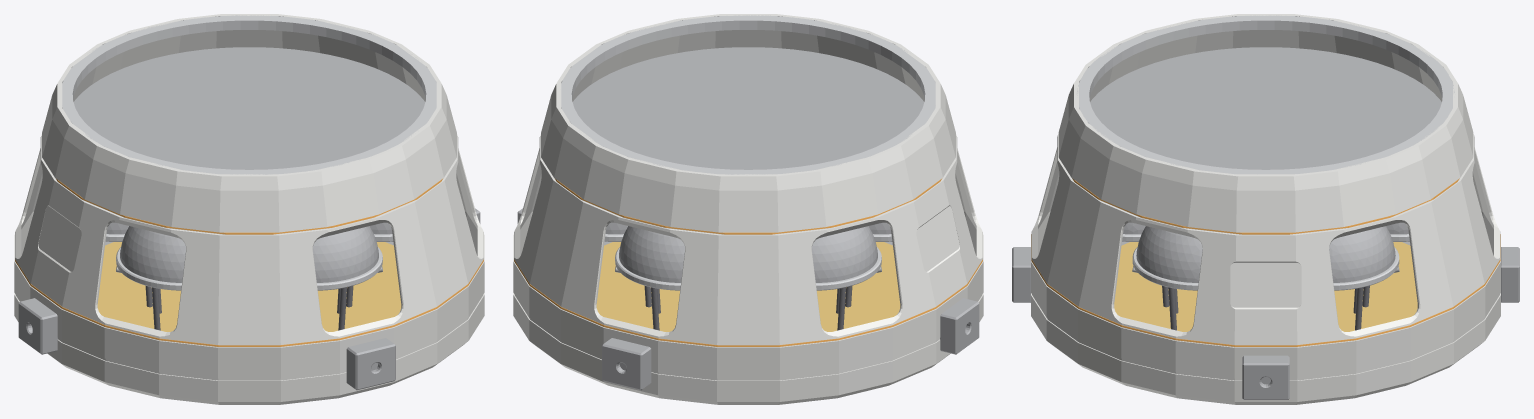
File: ax_tank_16_lander_tank_section_xl.glb
3 views of the same model, side by side, from view 1: azimuth 30°, elevation 25°; view 2: azimuth 150°, elevation 25°; view 3: azimuth 270°, elevation 25° (orthographic).
Parts seen in each view (by area): view 1: shell, decks, interface_rings, mli_floor, spherical_tanks, leg_hardpoints, orange_stripes, tank_girth_rings, tank_struts; view 2: shell, decks, interface_rings, mli_floor, spherical_tanks, leg_hardpoints, orange_stripes, tank_girth_rings, tank_struts; view 3: shell, decks, interface_rings, mli_floor, spherical_tanks, leg_hardpoints, orange_stripes, tank_girth_rings, tank_struts.
Part boxes in pixels (<box>): shell: <box>14,14,484,404</box>; decks: <box>73,47,425,245</box>; interface_rings: <box>62,15,436,174</box>; mli_floor: <box>97,242,401,331</box>; spherical_tanks: <box>106,222,392,282</box>; leg_hardpoints: <box>18,208,480,390</box>; orange_stripes: <box>15,178,483,346</box>; tank_girth_rings: <box>105,234,393,290</box>; tank_struts: <box>145,286,353,330</box>; shell: <box>513,14,983,404</box>; decks: <box>572,47,924,245</box>; interface_rings: <box>561,15,935,174</box>; mli_floor: <box>596,242,900,331</box>; spherical_tanks: <box>605,222,891,282</box>; leg_hardpoints: <box>517,208,979,390</box>; orange_stripes: <box>514,178,982,346</box>; tank_girth_rings: <box>604,234,892,290</box>; tank_struts: <box>644,286,852,330</box>; shell: <box>1031,14,1500,404</box>; decks: <box>1090,47,1441,245</box>; interface_rings: <box>1076,15,1454,174</box>; mli_floor: <box>1114,242,1417,331</box>; spherical_tanks: <box>1123,222,1408,282</box>; leg_hardpoints: <box>1012,247,1519,399</box>; orange_stripes: <box>1031,178,1500,346</box>; tank_girth_rings: <box>1122,234,1409,290</box>; tank_struts: <box>1162,285,1369,330</box>.
Size of the model in its own units: 6.63 by 3.07 by 6.63.
